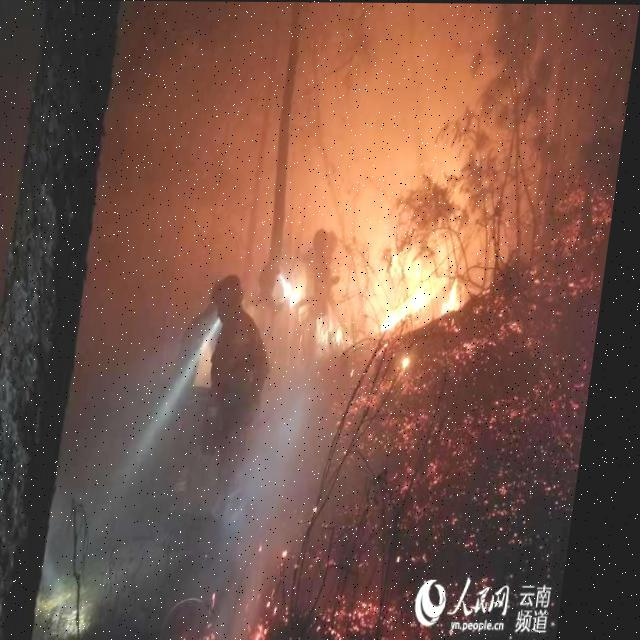Fire: (387, 246, 477, 336)
